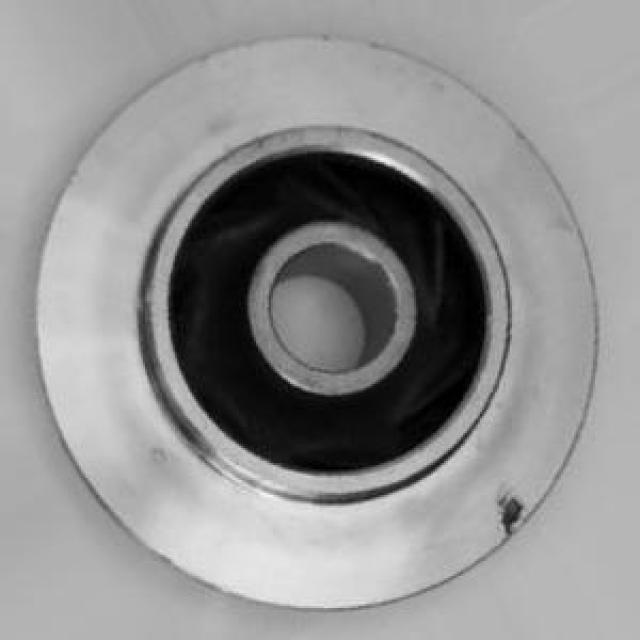Defect: (494, 488, 526, 540)
